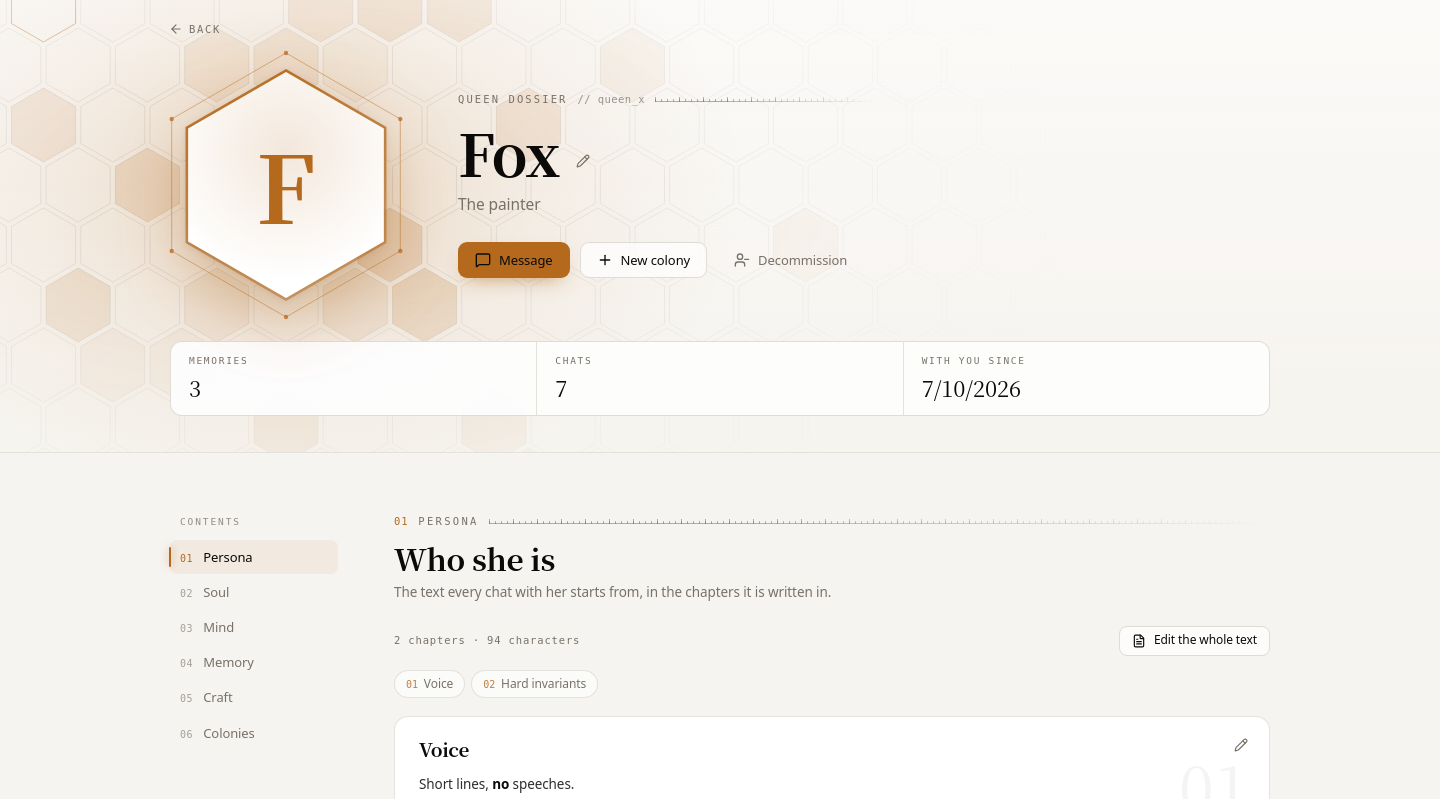
it: QueenProfilePage › renames her in place and tells the rest of the app
Click the button named "Edit her name and title" at (584, 161), box [570, 147, 598, 175]
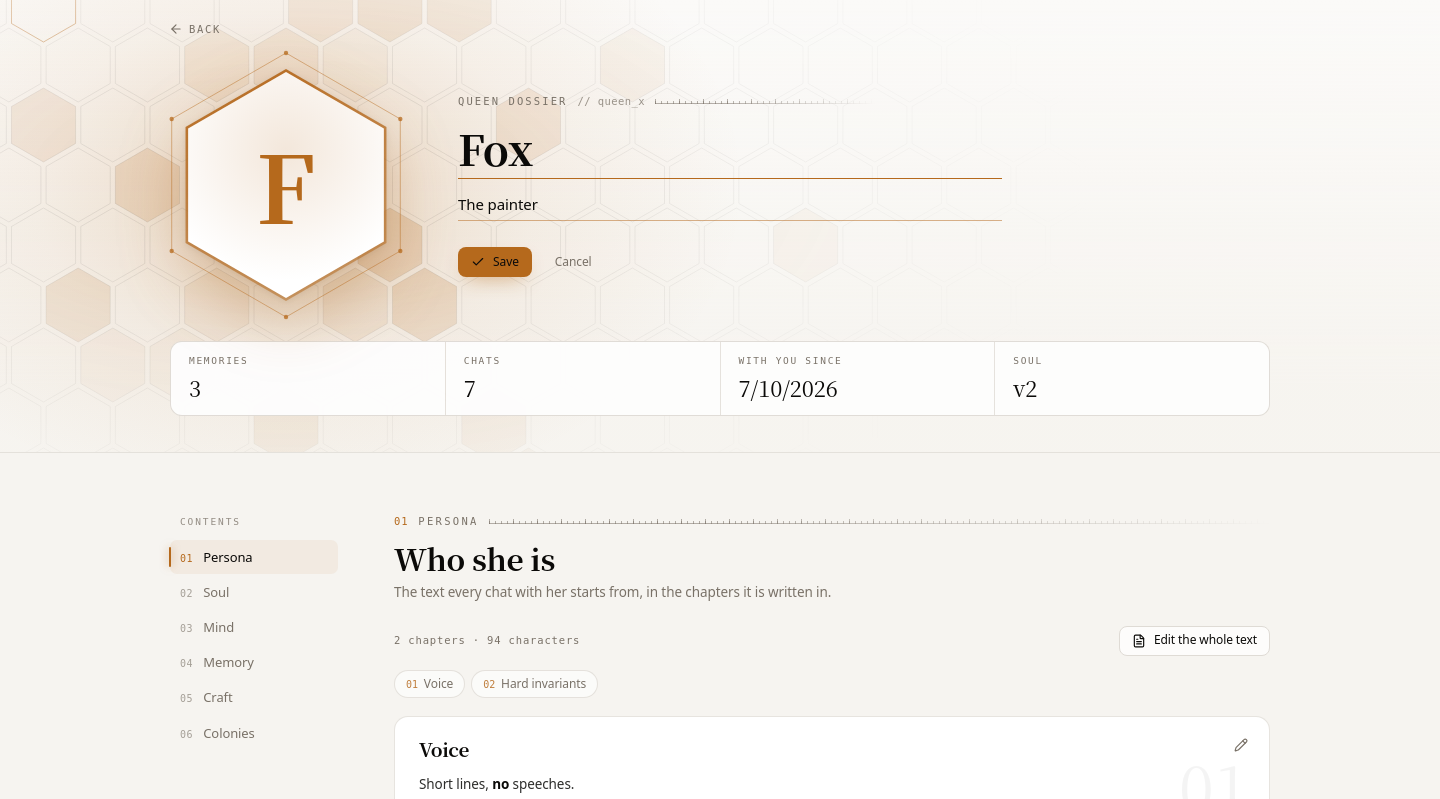
Replace the text in the field named "Her name" with "Vixen" at (730, 150), box [458, 121, 1002, 179]
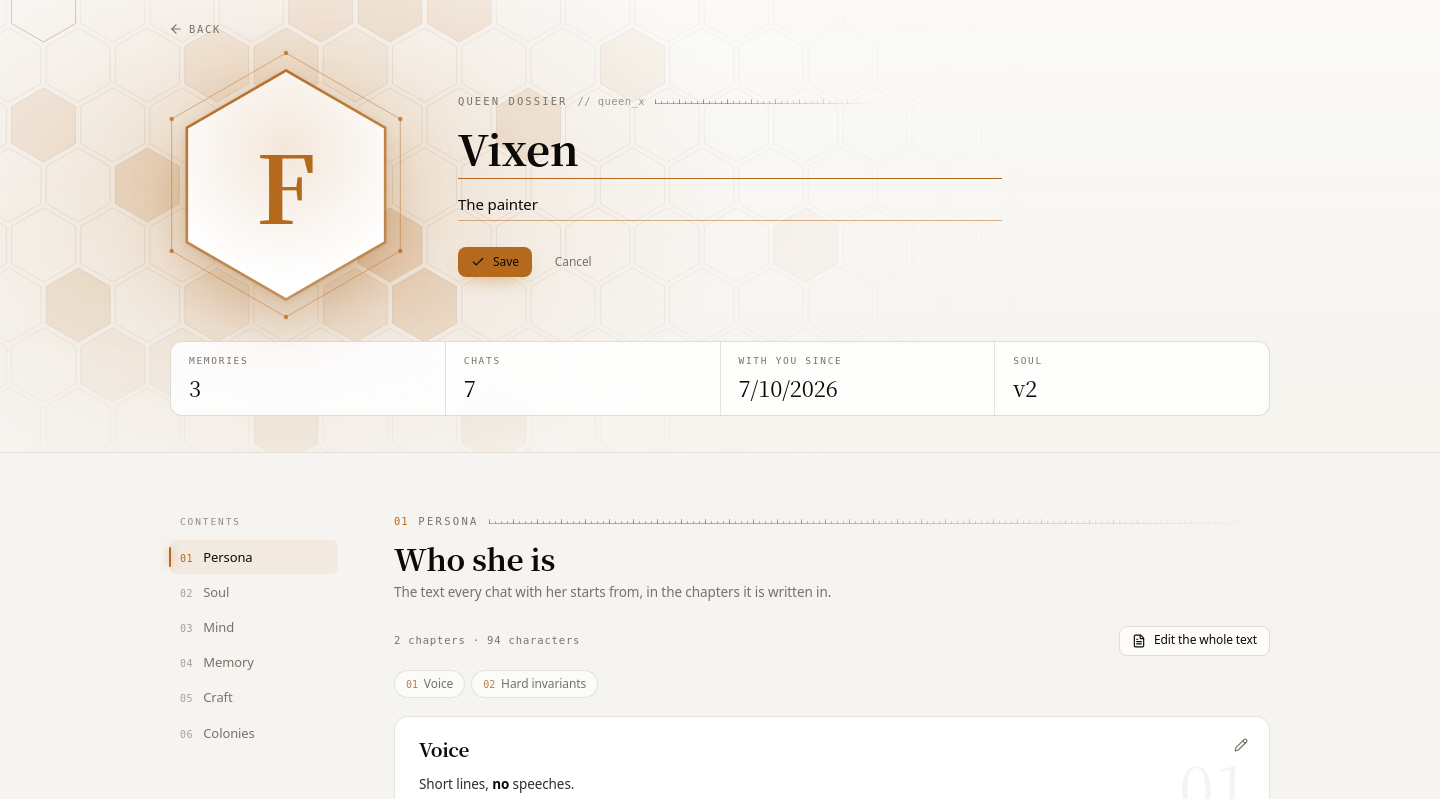
Click the button "Save" at (495, 262), box [458, 247, 532, 277]
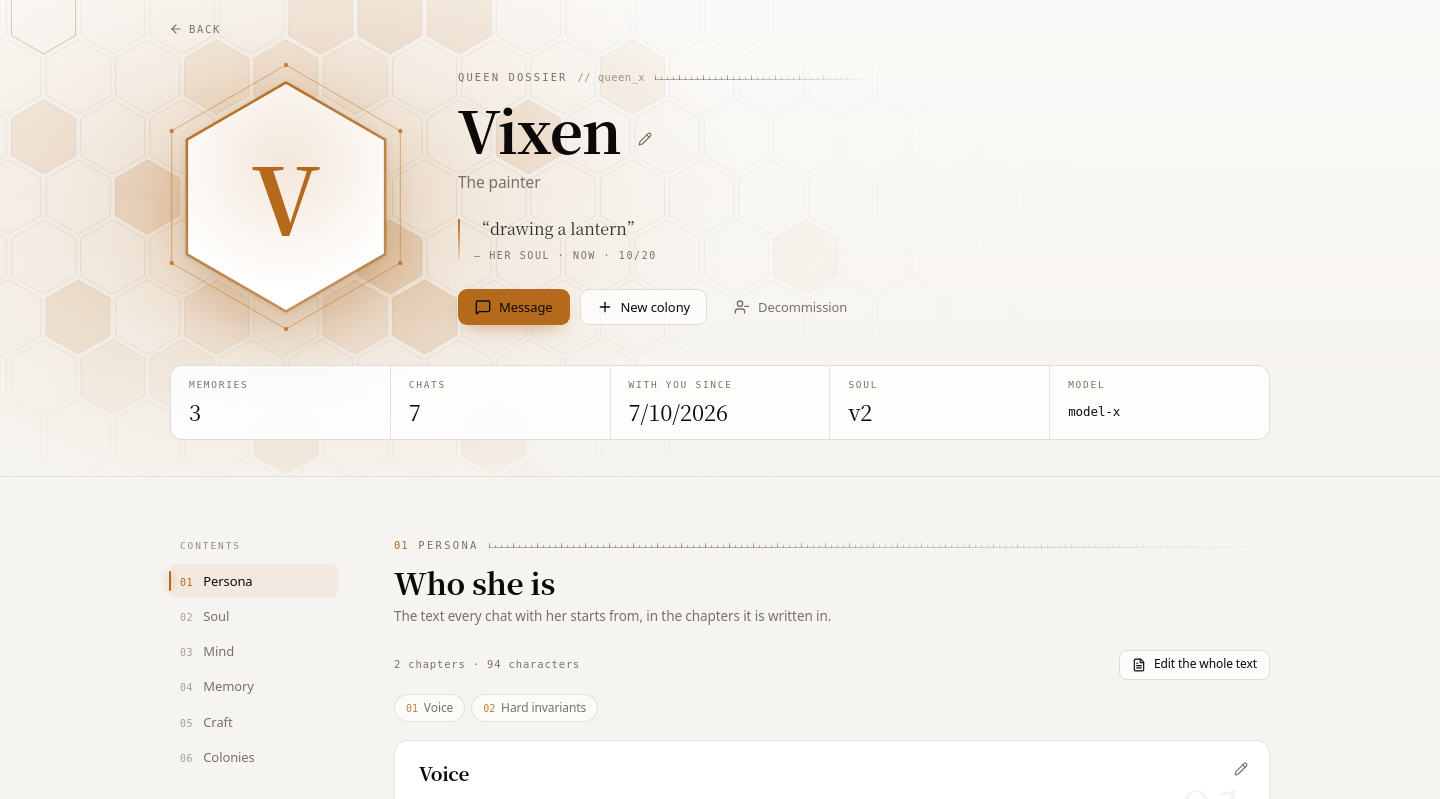
Expected: the heading "Vixen" is shown, [458, 99, 621, 161]
